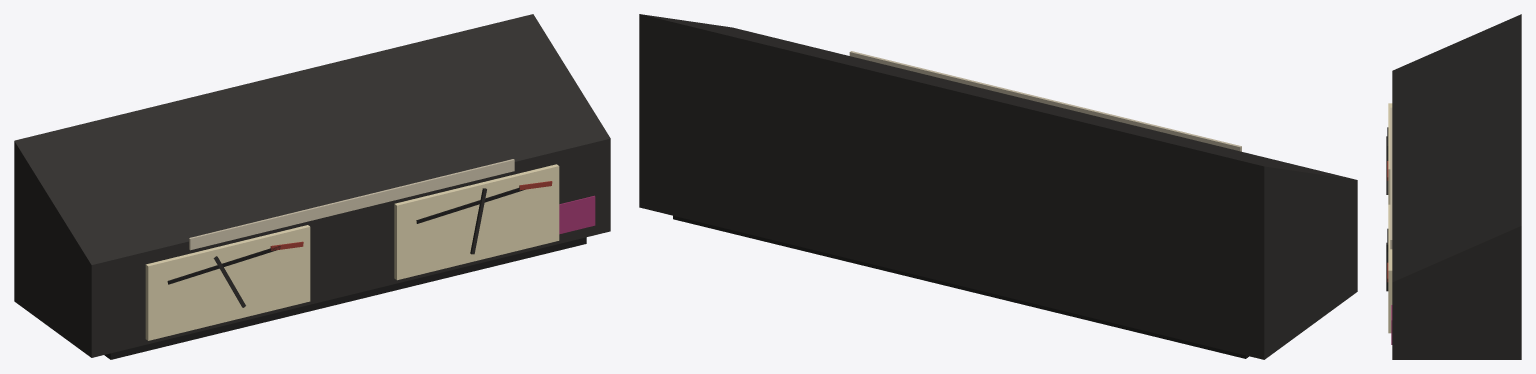
The model's file is vu-bridge.glb.
The picture shows the model from 3 angles, left to right: view 1: azimuth 30°, elevation 25°; view 2: azimuth 150°, elevation 25°; view 3: azimuth 270°, elevation 25°; orthographic projection. The views are drawn at different scales.
Visible parts, largest first — view 1: plastic-dark, dial, rubber, paper, accent-magenta; view 2: plastic-dark, paper, rubber; view 3: plastic-dark, dial, paper.
Part boxes in pixels (left/top/right/bottom): plastic-dark: left=14, top=14, right=610, bottom=357; dial: left=145, top=164, right=559, bottom=340; rubber: left=104, top=188, right=586, bottom=359; paper: left=189, top=159, right=514, bottom=250; accent-magenta: left=559, top=195, right=595, bottom=234; plastic-dark: left=639, top=14, right=1357, bottom=359; paper: left=849, top=51, right=1241, bottom=151; rubber: left=673, top=215, right=1248, bottom=358; plastic-dark: left=1386, top=14, right=1521, bottom=359; dial: left=1388, top=103, right=1392, bottom=333; paper: left=1390, top=107, right=1392, bottom=249.
Size of the model in its own units: 0.48 by 0.15 by 0.13.
